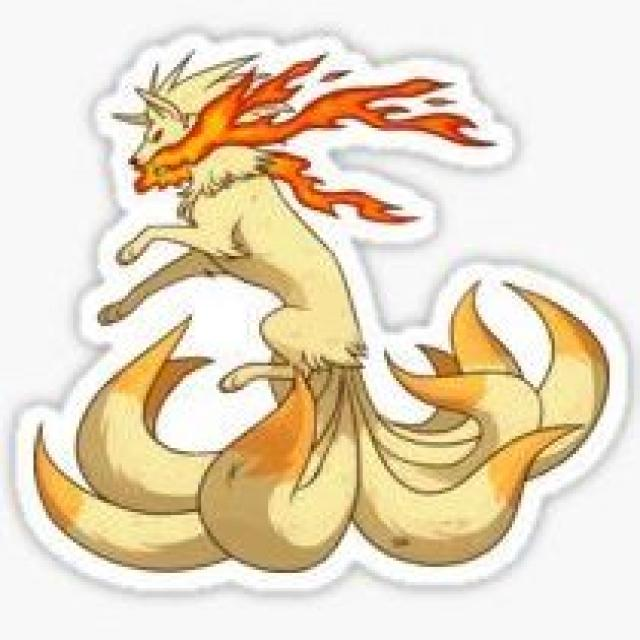Ninetales: (123, 59, 487, 494)
